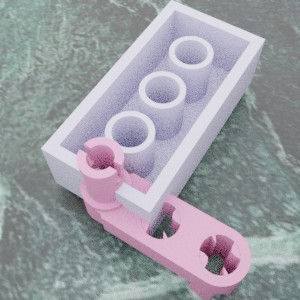lego: (40, 0, 265, 239), (76, 137, 251, 299)
